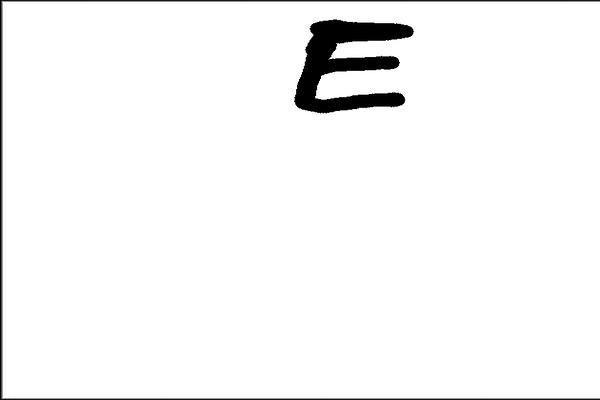E: (291, 16, 424, 119)
